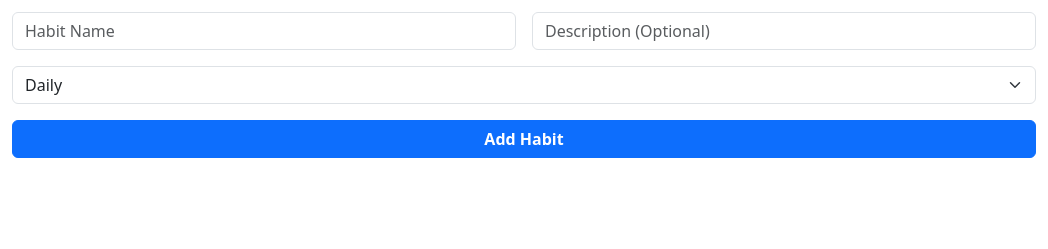
Scenario: HabitForm › shows backend error message if present
Type "Read" into the field with placeholder "Habit Name". click: (264, 31)
box: [12, 12, 516, 50]
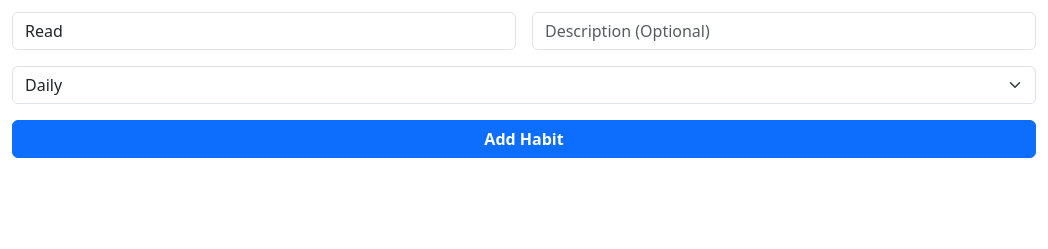
Click the button "Add Habit". click: (524, 139)
box: [12, 120, 1036, 158]
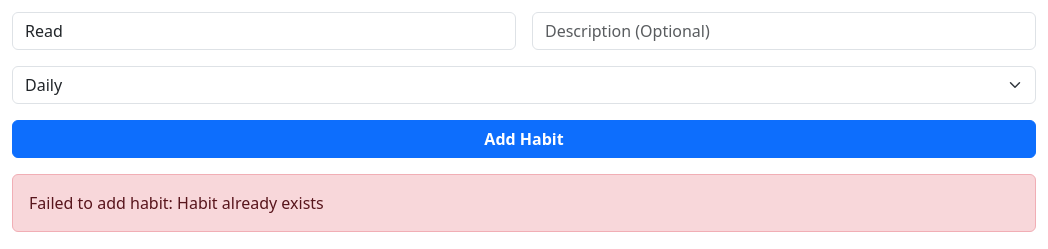
Check: the text "Failed to add habit: Habit already exists" is shown, box [12, 174, 1036, 232]
